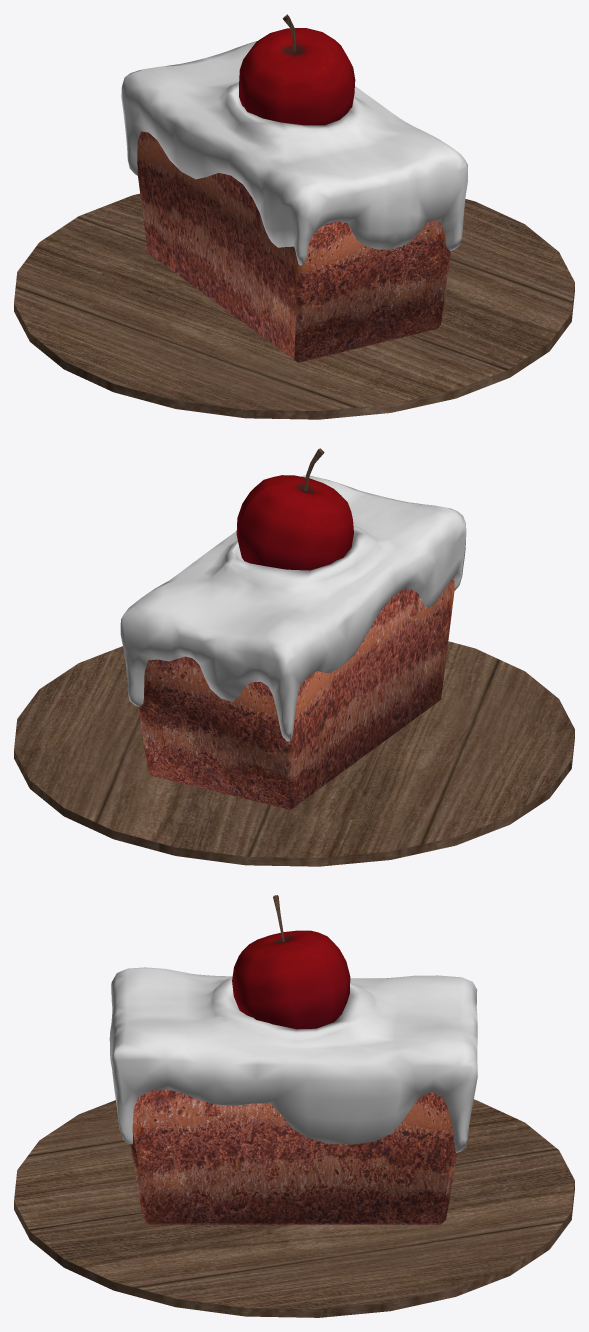
Rendered from cake_with_cherry-transformed.glb.
3 views of the same model, one above another, from view 1: azimuth 30°, elevation 25°; view 2: azimuth 150°, elevation 25°; view 3: azimuth 270°, elevation 25° (orthographic).
Parts seen in each view (by area): view 1: Object_4, Object_10, Object_7, Object_17; view 2: Object_4, Object_10, Object_7, Object_17; view 3: Object_4, Object_10, Object_7, Object_17.
Part boxes in pixels (<box>): Object_4: <box>14,14,574,419</box>; Object_10: <box>121,41,467,265</box>; Object_7: <box>137,131,450,362</box>; Object_17: <box>239,28,355,125</box>; Object_4: <box>14,448,574,866</box>; Object_10: <box>120,475,466,741</box>; Object_7: <box>138,579,454,809</box>; Object_17: <box>236,475,353,570</box>; Object_4: <box>14,895,574,1317</box>; Object_10: <box>109,967,477,1152</box>; Object_7: <box>130,1090,457,1224</box>; Object_17: <box>232,930,350,1029</box>.
Bounding box in the file's own units: 1.2 × 0.6977 × 1.2.
4 materials, 4 textured.
